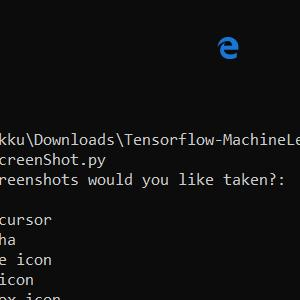edge: (217, 36, 238, 59)
